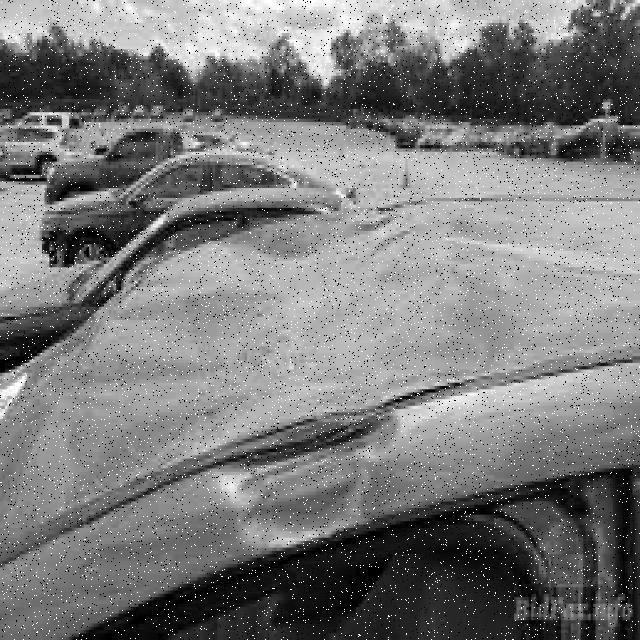roof-dent: (1, 199, 638, 588)
